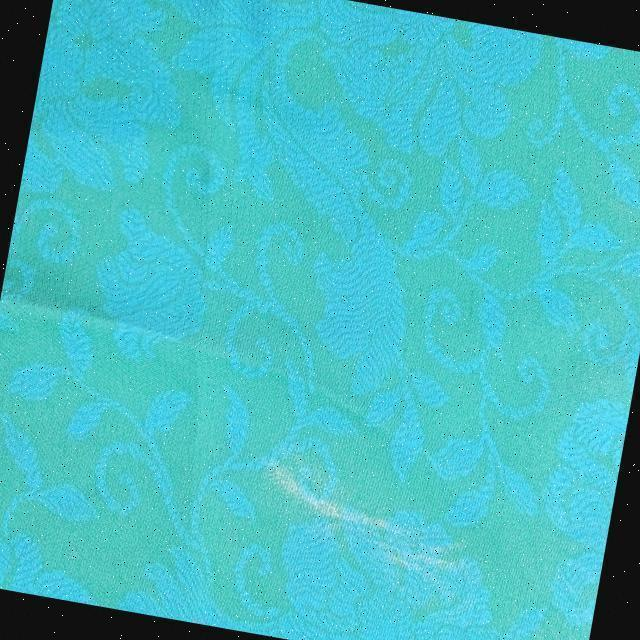stain: (267, 451, 449, 589)
